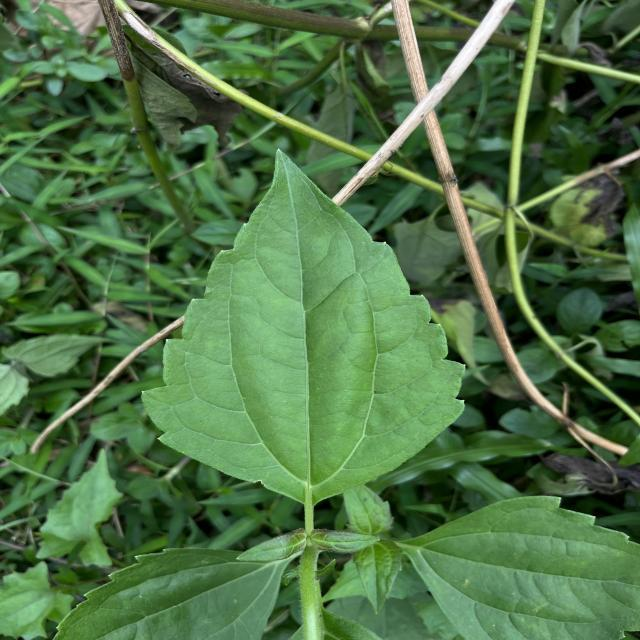Chromolaena odorata: (134, 141, 474, 508)
